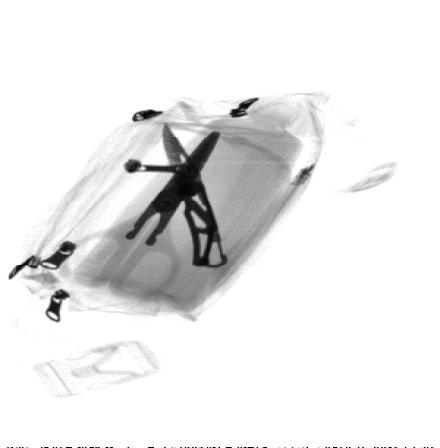Knife: (161, 119, 229, 267)
Scissors: (46, 127, 220, 300)
